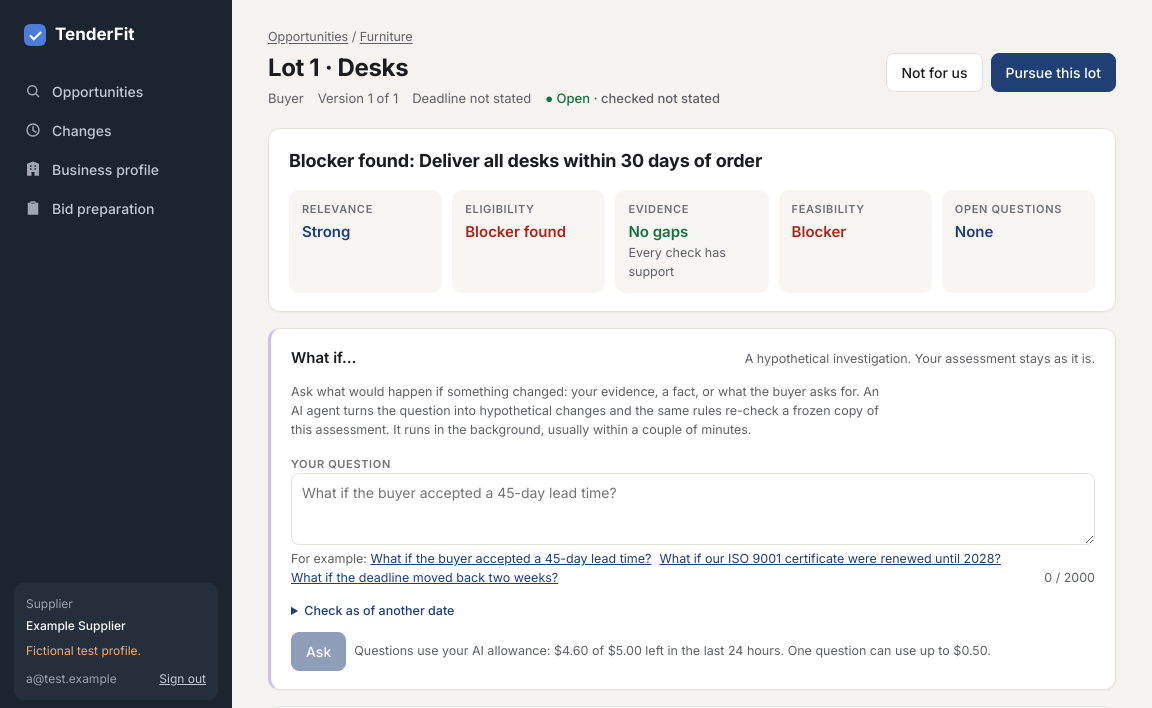
Test case: asking a what-if question › submits once, then opens the investigation, which is queued
Type "What if the buyer accepted our 45-day lead time?" into the text box labelled "Your question" at (693, 509), box x1=291 y1=473 x2=1095 y2=545
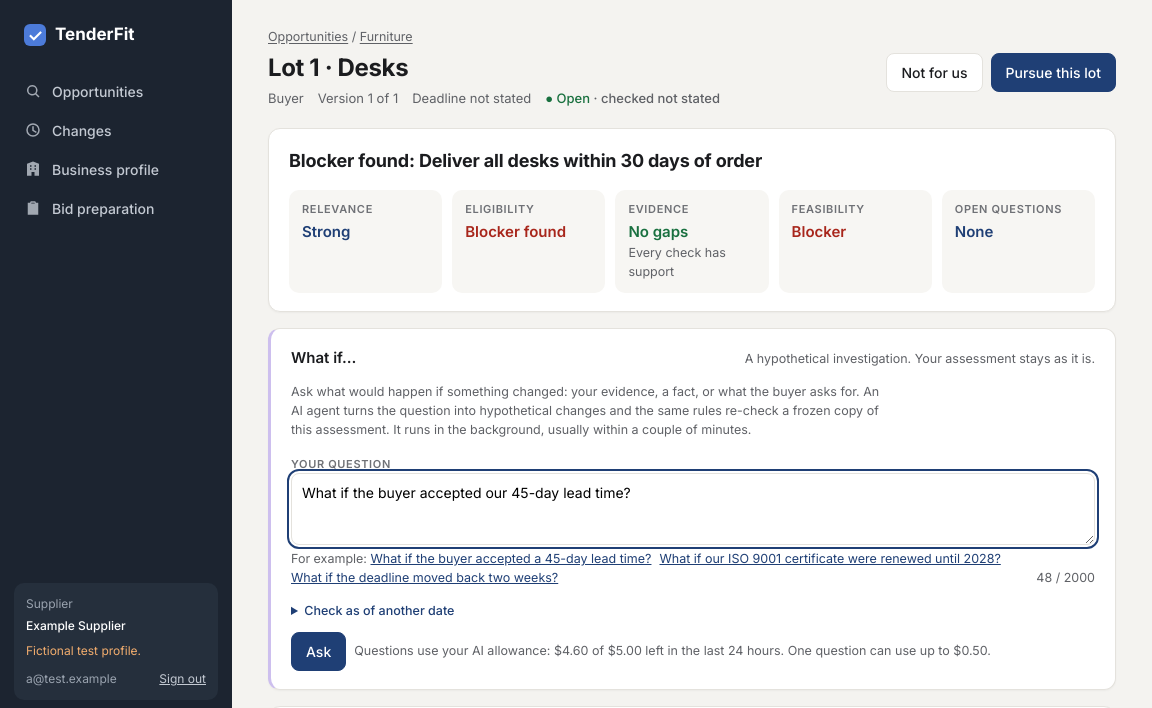
Click the button "Ask" at (319, 652), box x1=291 y1=632 x2=346 y2=671
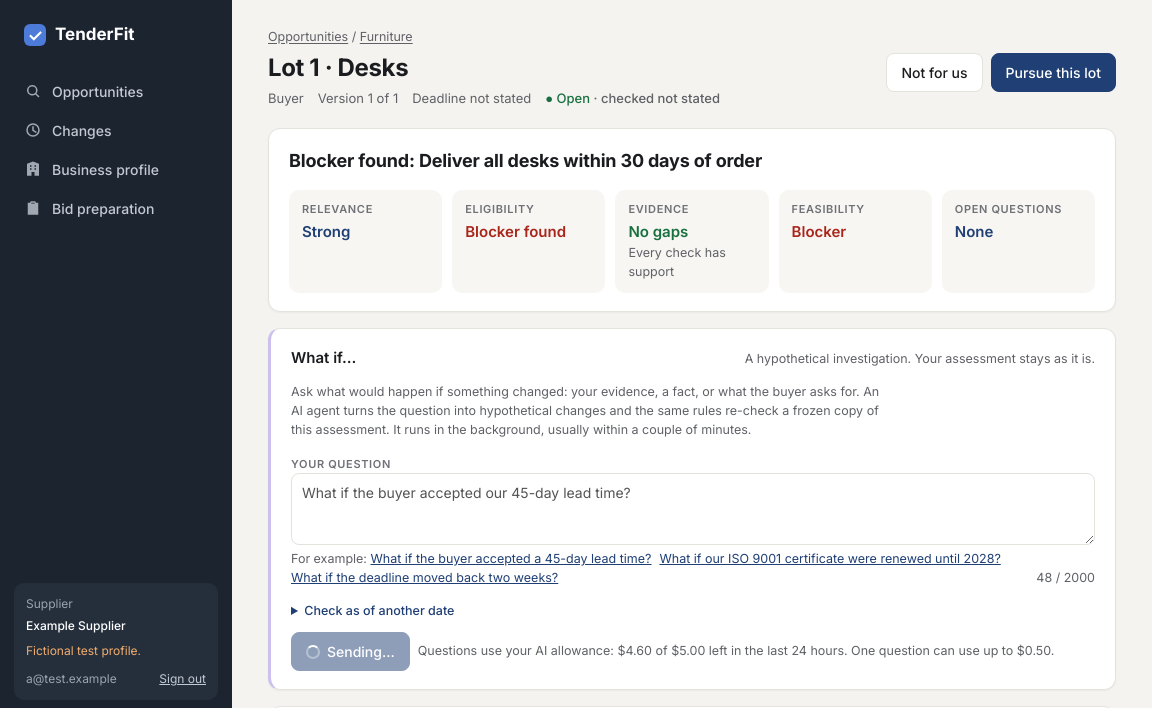
expect the button "Sending…" is disabled: met
Click the button "Sending…" at (350, 652), box x1=291 y1=632 x2=410 y2=671
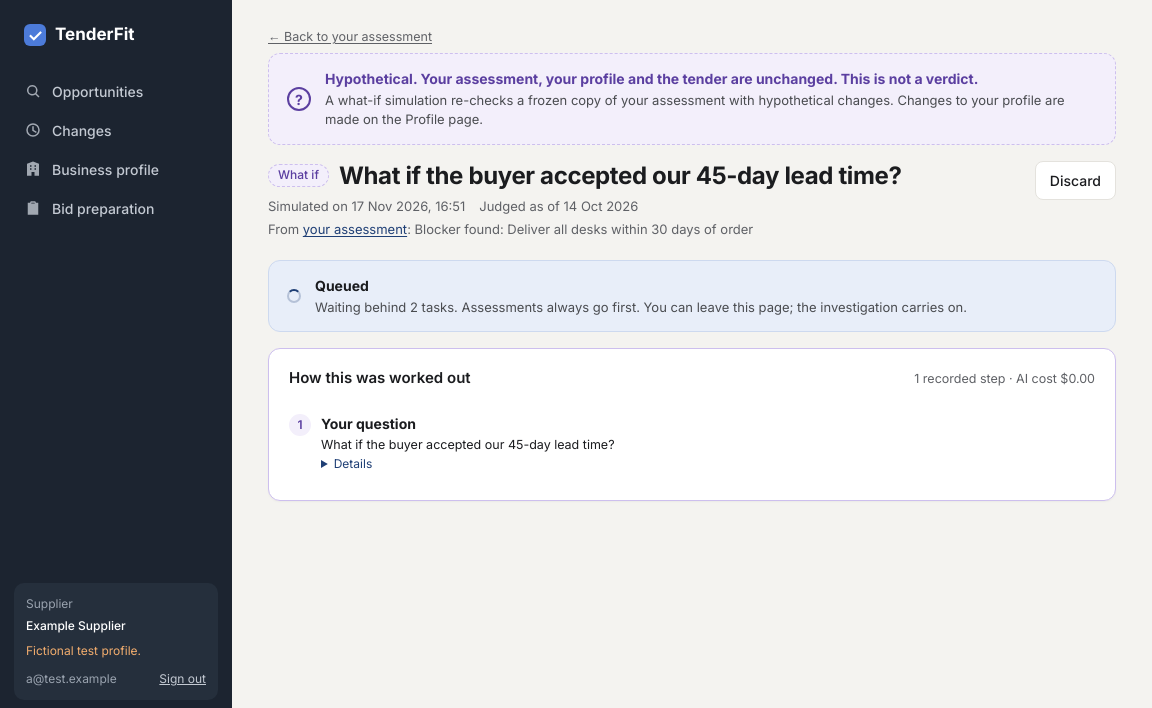
expect the text "Queued" is shown: met, box x1=315 y1=277 x2=369 y2=294
expect the text "Waiting behind 2 tasks" is shown: met, box x1=315 y1=299 x2=640 y2=315
